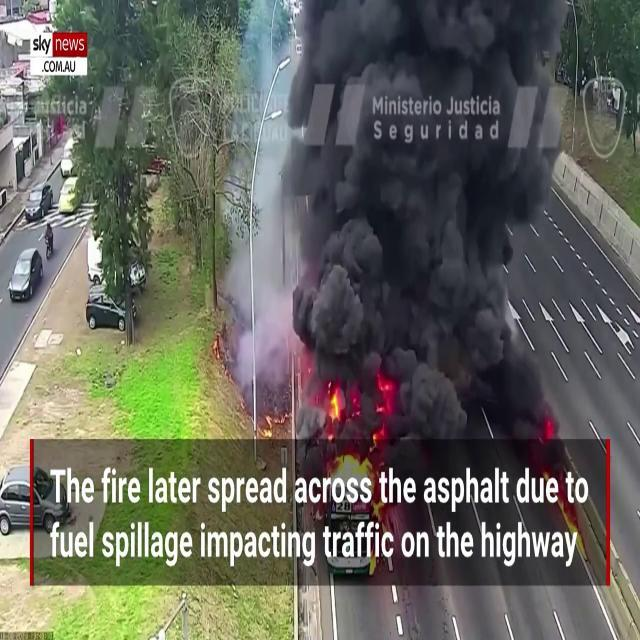Fire: (314, 372, 350, 429)
Smoke: (242, 0, 556, 411)
